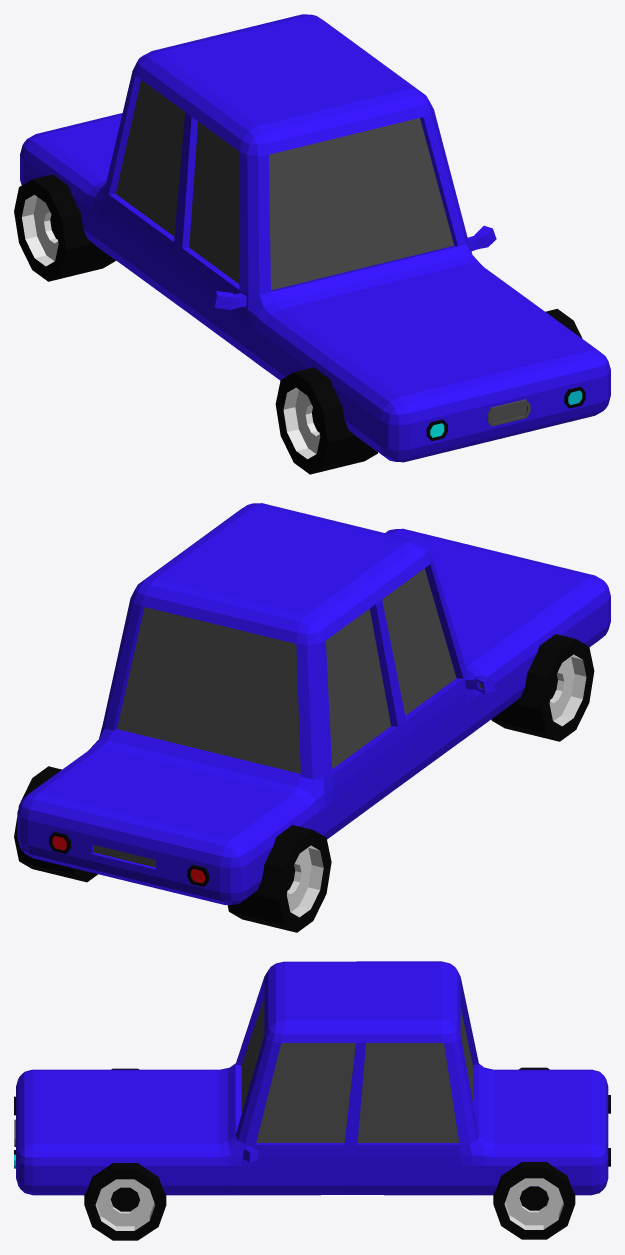
File: AutoDeJugueteLowPoly.fbx
3 renders of one model, top to bottom at view 1: azimuth 30°, elevation 25°; view 2: azimuth 150°, elevation 25°; view 3: azimuth 270°, elevation 25°, orthographic. The views are drawn at different scales.
Parts seen in each view (by area): view 1: Cube, Cilindro.001, Cilindro.003, Cilindro.008; view 2: Cube, Cilindro.003, Cilindro.001, Cilindro.002; view 3: Cube, Cilindro.002, Cilindro.
Part boxes in pixels (x1,y1,x2,y2): Cube: (20, 14, 610, 462); Cilindro.001: (275, 367, 377, 474); Cilindro.003: (14, 174, 116, 281); Cilindro.008: (487, 399, 530, 426); Cube: (17, 503, 610, 905); Cilindro.003: (227, 825, 331, 932); Cilindro.001: (491, 634, 594, 741); Cilindro.002: (14, 766, 97, 882); Cube: (16, 961, 608, 1195); Cilindro.002: (493, 1162, 575, 1239); Cilindro: (84, 1163, 166, 1240).
Bounding box in the file's own units: 248 × 214 × 581.
